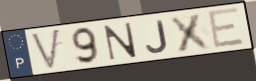9: (68, 25, 101, 66)
E: (205, 5, 247, 51)
J: (144, 18, 170, 54)
N: (102, 21, 139, 62)
V: (28, 27, 62, 72)
X: (167, 11, 216, 54)
